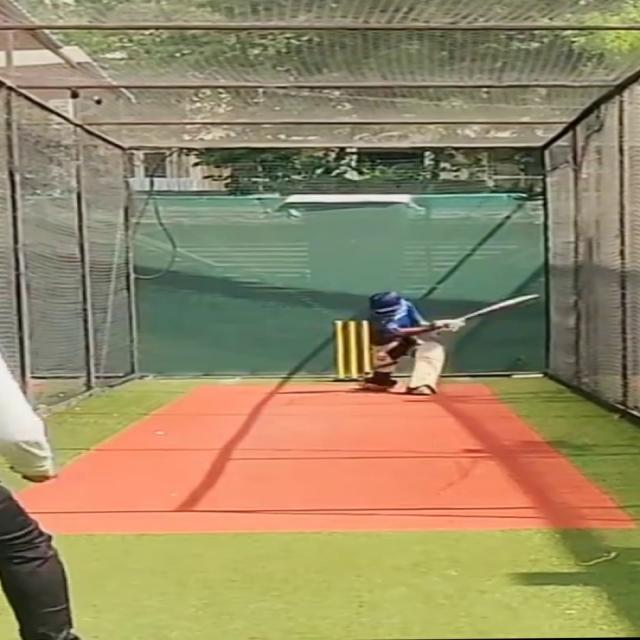stump: (328, 319, 371, 382)
